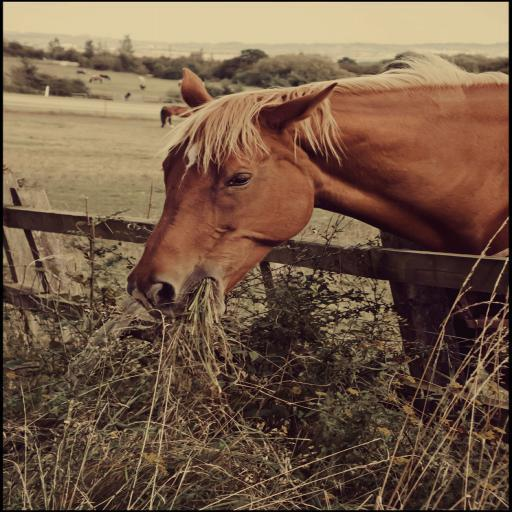horse: (124, 46, 510, 326)
